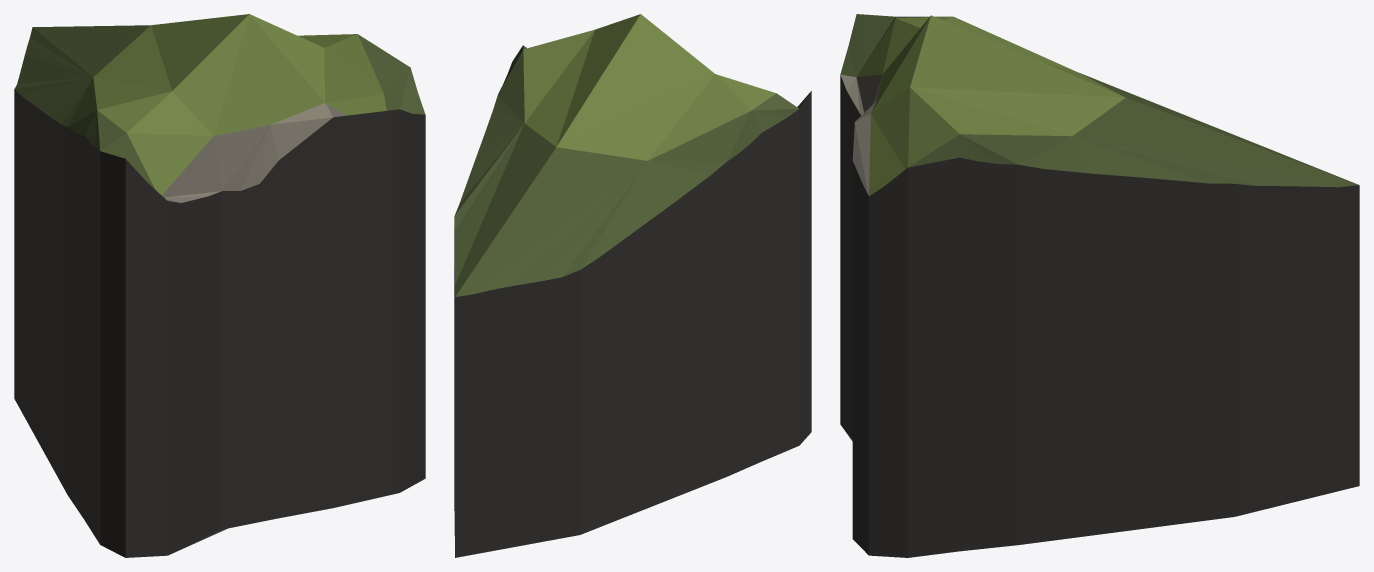
Rendered from cliff_sections_western_slab.glb.
3 views of the same model, side by side, from view 1: azimuth 30°, elevation 25°; view 2: azimuth 150°, elevation 25°; view 3: azimuth 270°, elevation 25° (orthographic). The views are drawn at different scales.
Visible parts, largest first — view 1: Front columns study; view 2: Front columns study; view 3: Front columns study.
Boxes of the visible parts, box(x1,y1,x2,y2) form: Front columns study: box(14, 14, 425, 557); Front columns study: box(454, 14, 811, 557); Front columns study: box(840, 14, 1359, 557).
Bounding box in the file's own units: 55.6 × 80 × 79.97.
